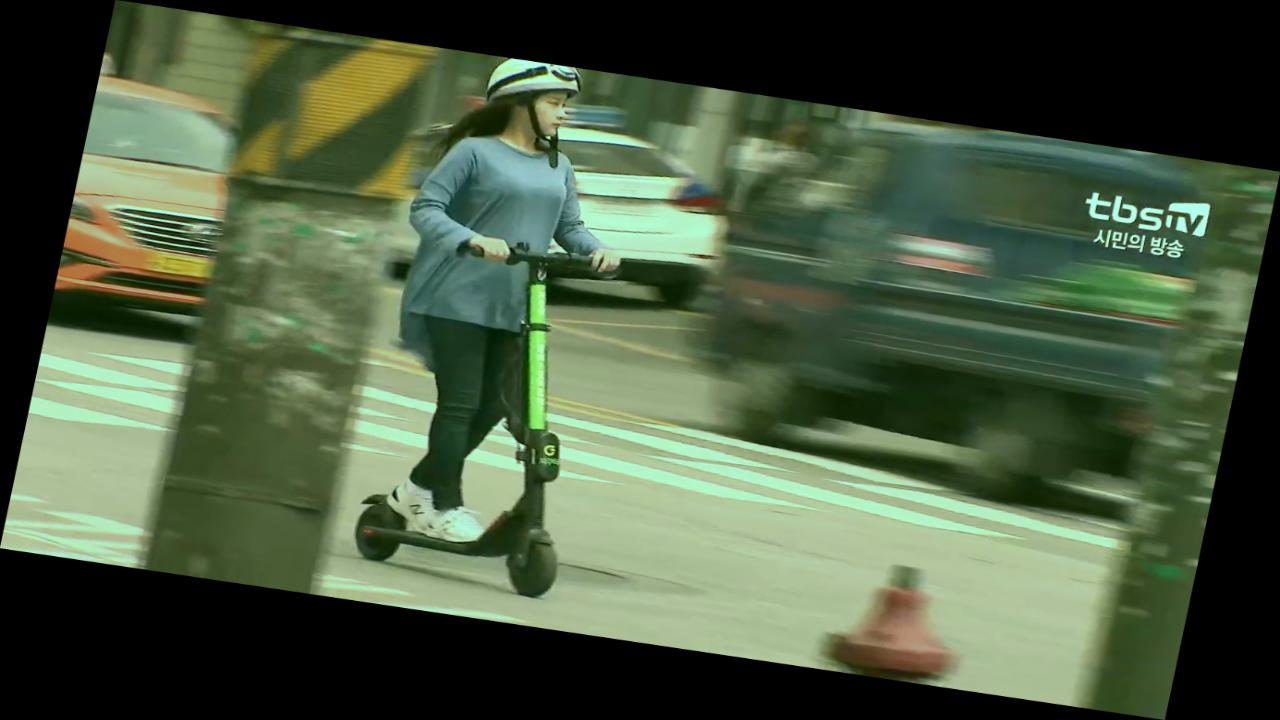helmet: (338, 50, 668, 601)
